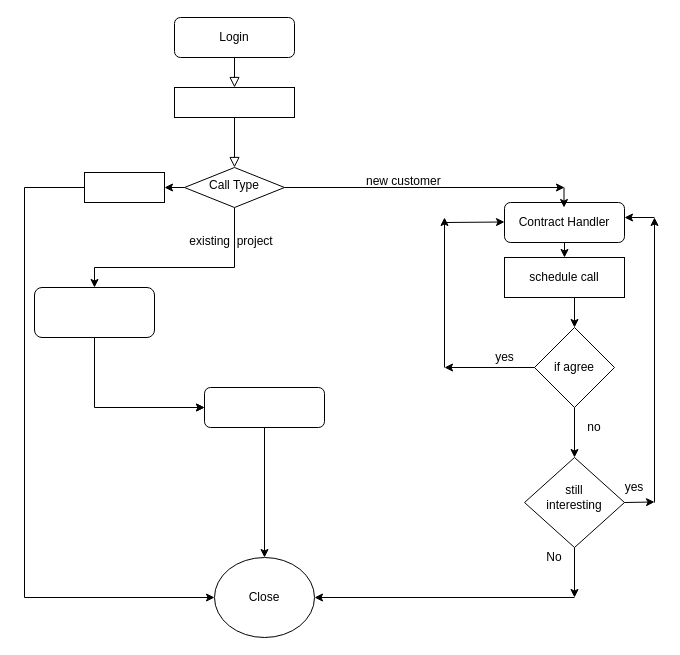
Image size: 680x655. Some labels were removed from this diagram. Here are the shapes that lost their labels. From the top down, the box of each, then its label:
(174, 86, 294, 118): Receive Call
(84, 172, 164, 202): common
(34, 286, 154, 338): projecthandler
(204, 386, 324, 428): Update
